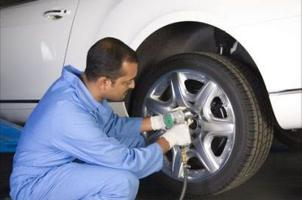person: (10, 36, 193, 200)
